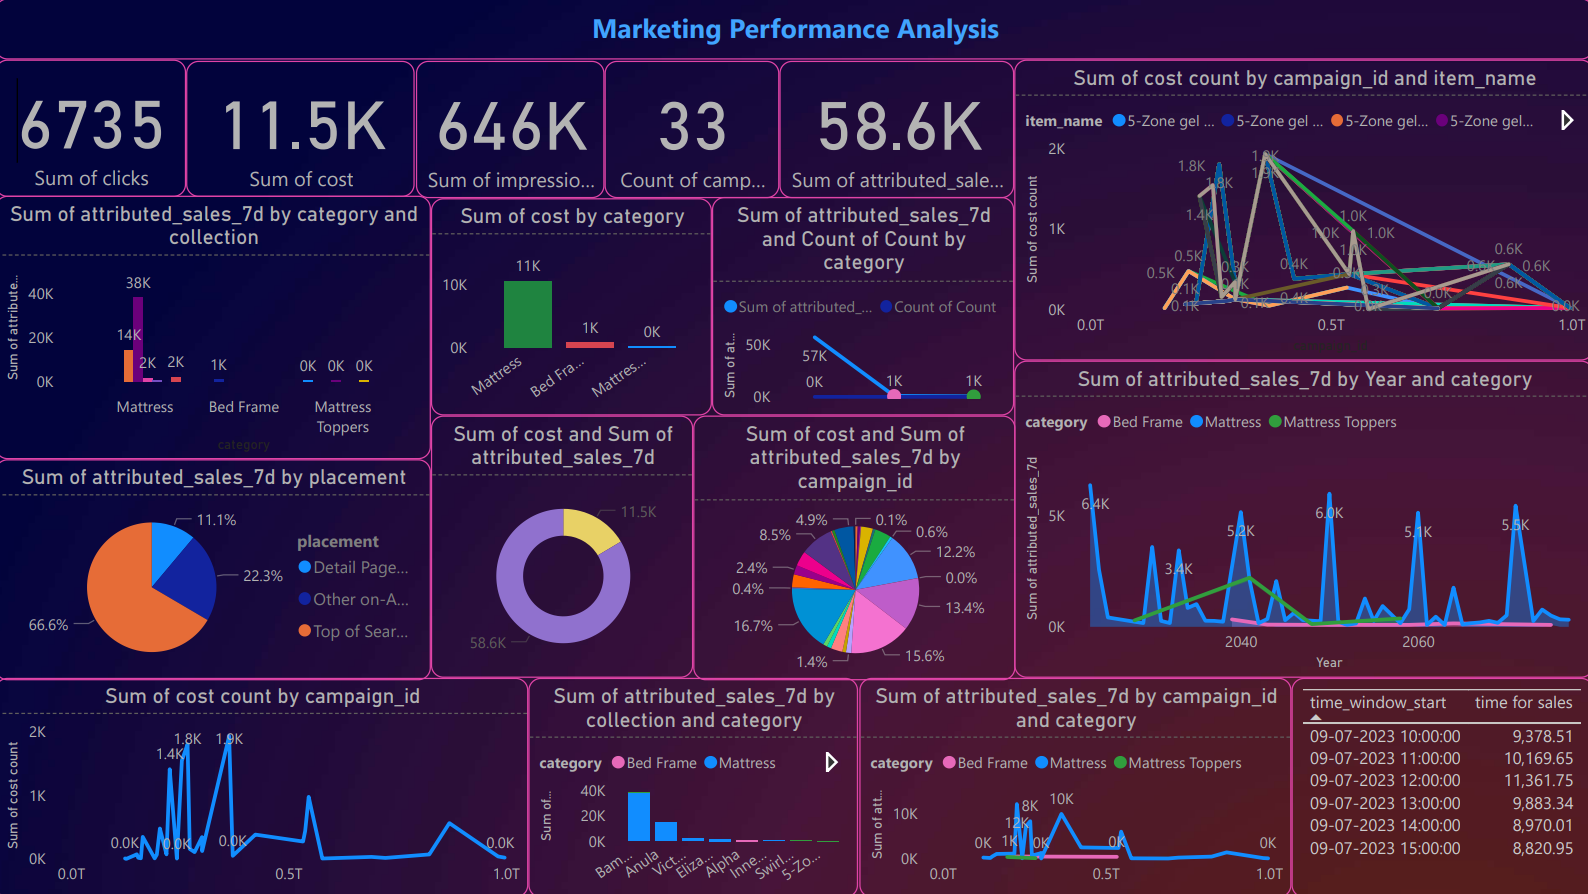

This screenshot's page, from the dashboard's own definition file:
{"tool":"powerbi","page":{"name":"Page 1","canvas":[1280,720],"ordinal":0},"visuals":[{"type":"lineStackedColumnComboChart","fields":{"Category":["product_description.collection"],"Series":["product_description.category"],"Y":["amazon_marketing_stream_data .attributed_sales_7d"]},"box":[426.7,544.4,264.4,175.6],"z":0},{"type":"textbox","box":[0,0,1280.2,49.4],"z":1000},{"type":"clusteredColumnChart","fields":{"Category":["product_description.category"],"Y":["amazon_marketing_stream_data .cost"]},"box":[348.9,160,225.6,174.4],"z":2000},{"type":"tableEx","fields":{"Values":["sales time.time_window_start","sales time.time for sales"]},"box":[1037.8,544.4,242.2,175.6],"z":3000},{"type":"lineChart","fields":{"Category":["sum on cost basis.campaign_id"],"Y":["sum on cost basis.Count"]},"box":[0,544.5,426.7,175.5],"z":4000},{"type":"clusteredColumnChart","fields":{"Category":["product_description.category"],"Y":["amazon_marketing_stream_data .attributed_sales_7d"],"Series":["product_description.collection"]},"box":[0,157.8,348.9,211.1],"z":5000},{"type":"lineChart","fields":{"Series":["product_description.item_name"],"Category":["sum on cost basis.campaign_id"],"Y":["sum on cost basis.cost count"]},"box":[815.6,48.9,464.4,241.1],"z":6000},{"type":"lineChart","fields":{"Series":["product_description.category"],"Category":["amazon_marketing_stream_data .campaign_id"],"Y":["amazon_marketing_stream_data .attributed_sales_7d"]},"box":[691.6,544.5,346.9,175.5],"z":7000},{"type":"lineChart","fields":{"Y":["amazon_marketing_stream_data .attributed_sales_7d","count different time.Count"],"Category":["product_description.category"]},"box":[573.9,158.7,241.8,175.5],"z":8000},{"type":"stackedAreaChart","fields":{"Category":["amazon_marketing_stream_data .timedata_pst.Variation.Date Hierarchy.Year"],"Series":["product_description.category"],"Y":["amazon_marketing_stream_data .attributed_sales_7d"]},"box":[815.6,290,464.4,254.4],"z":9000},{"type":"card","fields":{"Values":["amazon_marketing_stream_data .cost"]},"box":[153.5,50.5,182.9,108.3],"z":10000},{"type":"card","fields":{"Values":["amazon_marketing_stream_data .clicks"]},"box":[0,49.4,153.5,109.3],"z":11000},{"type":"card","fields":{"Values":["amazon_marketing_stream_data .impressions"]},"box":[336.7,50,151.1,110],"z":12000},{"type":"card","fields":{"Values":["amazon_marketing_stream_data .attributed_sales_7d"]},"box":[627.8,50,187.8,110],"z":13000},{"type":"card","fields":{"Values":["groupby campaign.campaign_id"]},"box":[487.8,50,140,110],"z":14000},{"type":"pieChart","fields":{"Category":["amazon_marketing_stream_data .placement","product_description.category"],"Y":["amazon_marketing_stream_data .attributed_sales_7d"]},"box":[0,368.9,348.9,176.7],"z":15000},{"type":"donutChart","fields":{"Y":["amazon_marketing_stream_data .cost","amazon_marketing_stream_data .attributed_sales_7d"]},"box":[348.9,334.4,210,210],"z":16000},{"type":"pieChart","fields":{"Category":["amazon_marketing_stream_data .campaign_id"],"Y":["amazon_marketing_stream_data .cost"]},"box":[558.9,334.4,257.8,211.1],"z":17001}]}

Visuals, with their boxes in screenshot pixels (x1, y1, x2, y2), scaled from the page's 1280x720 canvas onto the 1588x894 screenshot:
lineStackedColumnComboChart - product_description.collection x product_description.category: <box>529,676,857,893</box>
textbox: <box>0,0,1587,61</box>
clusteredColumnChart - product_description.category x amazon_marketing_stream_data .cost: <box>433,199,713,415</box>
tableEx - sales time.time_window_start x sales time.time for sales: <box>1288,676,1587,893</box>
lineChart - sum on cost basis.campaign_id x sum on cost basis.Count: <box>0,676,529,893</box>
clusteredColumnChart - product_description.category x amazon_marketing_stream_data .attributed_sales_7d: <box>0,196,433,458</box>
lineChart - product_description.item_name x sum on cost basis.campaign_id: <box>1012,61,1587,360</box>
lineChart - product_description.category x amazon_marketing_stream_data .campaign_id: <box>858,676,1288,893</box>
lineChart - amazon_marketing_stream_data .attributed_sales_7d x count different time.Count: <box>712,197,1012,415</box>
stackedAreaChart - amazon_marketing_stream_data .timedata_pst.Variation.Date Hierarchy.Year x product_description.category: <box>1012,360,1587,676</box>
card - amazon_marketing_stream_data .cost: <box>190,63,417,197</box>
card - amazon_marketing_stream_data .clicks: <box>0,61,190,197</box>
card - amazon_marketing_stream_data .impressions: <box>418,62,605,199</box>
card - amazon_marketing_stream_data .attributed_sales_7d: <box>779,62,1012,199</box>
card - groupby campaign.campaign_id: <box>605,62,779,199</box>
pieChart - amazon_marketing_stream_data .placement x product_description.category: <box>0,458,433,677</box>
donutChart - amazon_marketing_stream_data .cost x amazon_marketing_stream_data .attributed_sales_7d: <box>433,415,693,676</box>
pieChart - amazon_marketing_stream_data .campaign_id x amazon_marketing_stream_data .cost: <box>693,415,1013,677</box>
